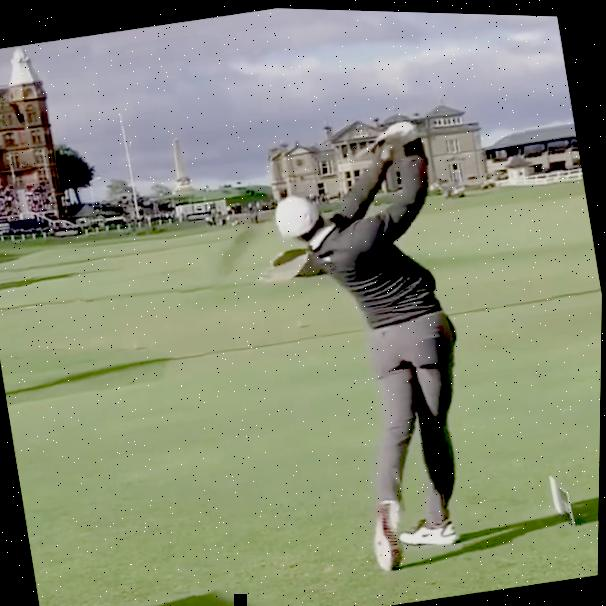ClubHead: (216, 224, 260, 274)
